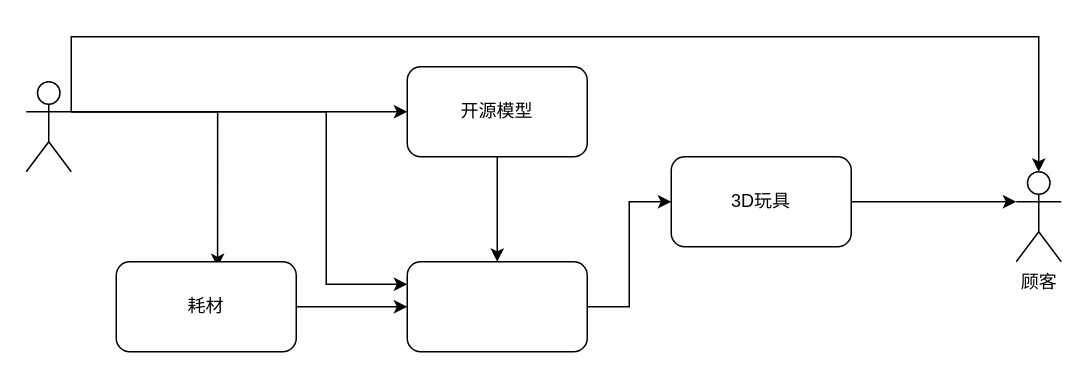
Image size: 1088x378. Some labels were removed from this diagram. Each missing label, with the centre of its shape:
"3D打印机" belongs at (x=496, y=306).
"摊主" belongs at (x=48, y=126).
